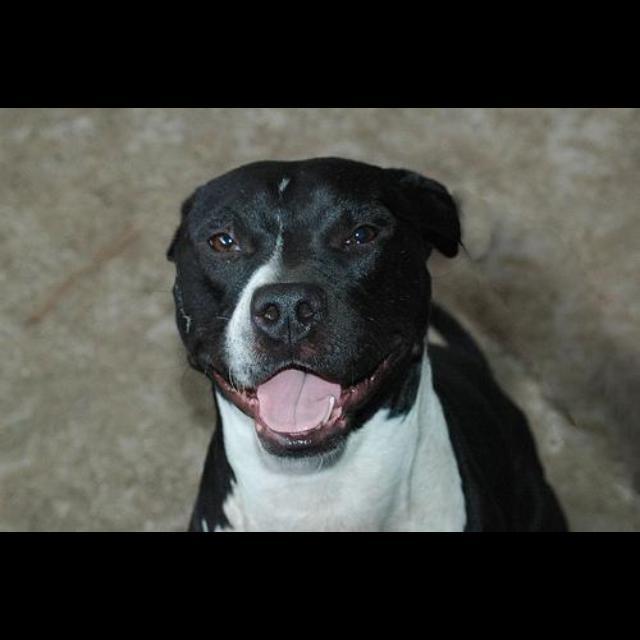amstaff: (167, 157, 572, 533)
